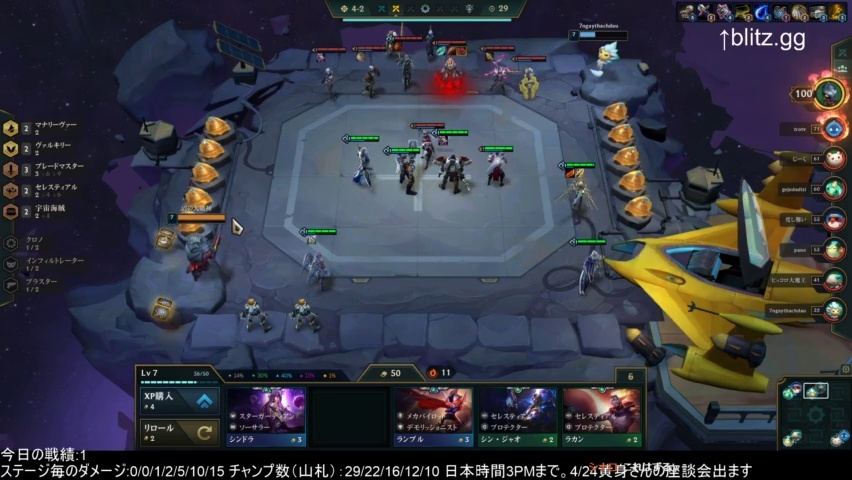darius*2:rod: (431, 128, 478, 193)
ezreal: (284, 289, 324, 339), (239, 286, 274, 336)
ezreal: gunblade,dragonsclaw, shiefsglove: (430, 36, 477, 108)
fiora:rod: (308, 44, 349, 105)
graves*2: (382, 147, 424, 199)
irelia: IE: (481, 43, 520, 103)
kaisa*2: redemption: (297, 226, 344, 294)
kassadin*2: (338, 132, 386, 189)
kayle*2: guinsoo,shiv: (562, 161, 606, 226)
leona: (512, 53, 548, 102)
lucian*2:redbuff: (384, 33, 425, 103)
shen: (482, 139, 518, 192)
vi:cloak: (350, 40, 387, 108)
xayah*2: (568, 237, 612, 302)
